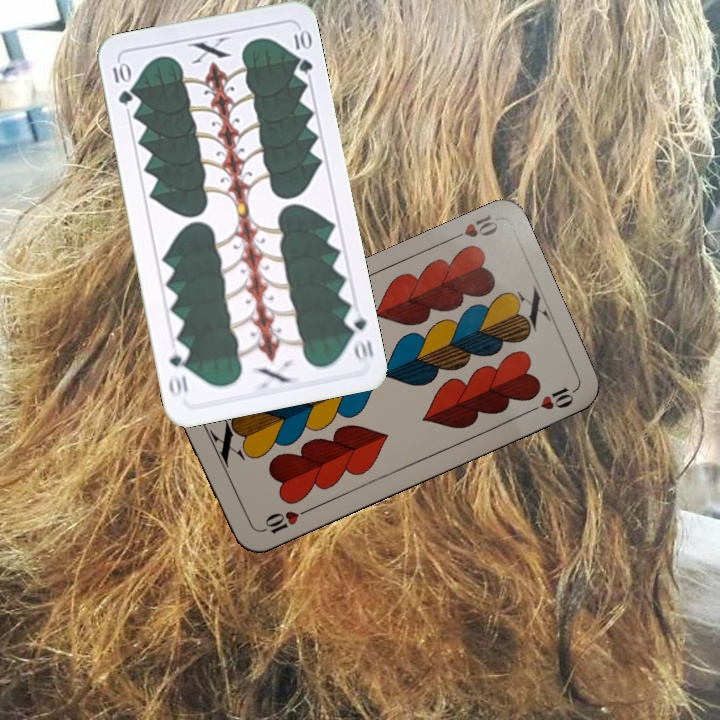G10: (341, 305, 376, 366), (108, 58, 135, 108)
H10: (444, 211, 501, 245), (255, 505, 311, 537)
